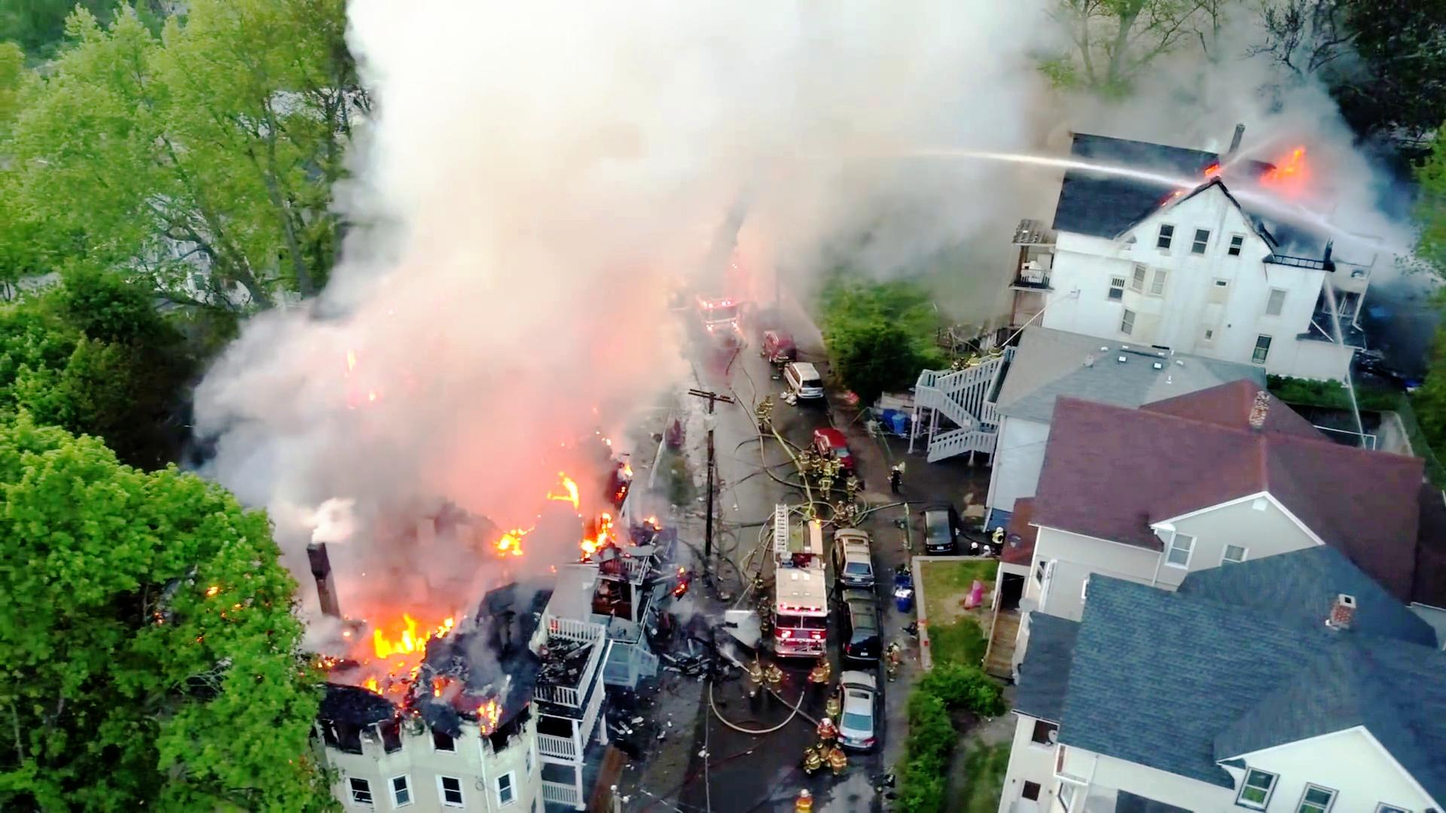fire: (554, 469, 614, 553), (362, 614, 441, 661)
smoke: (407, 6, 968, 174)
